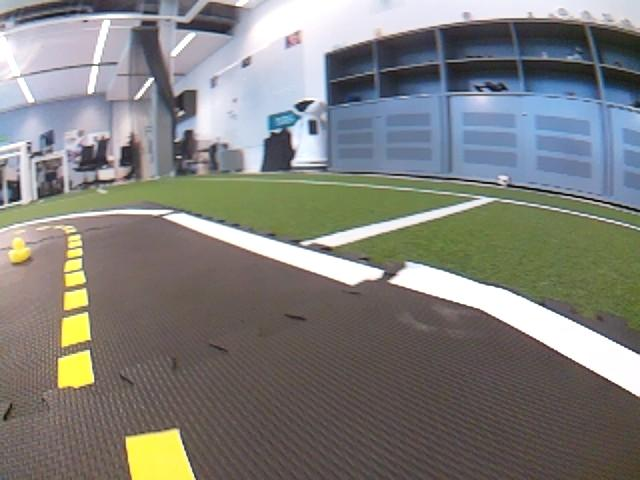Duckies: (7, 238, 31, 264)
